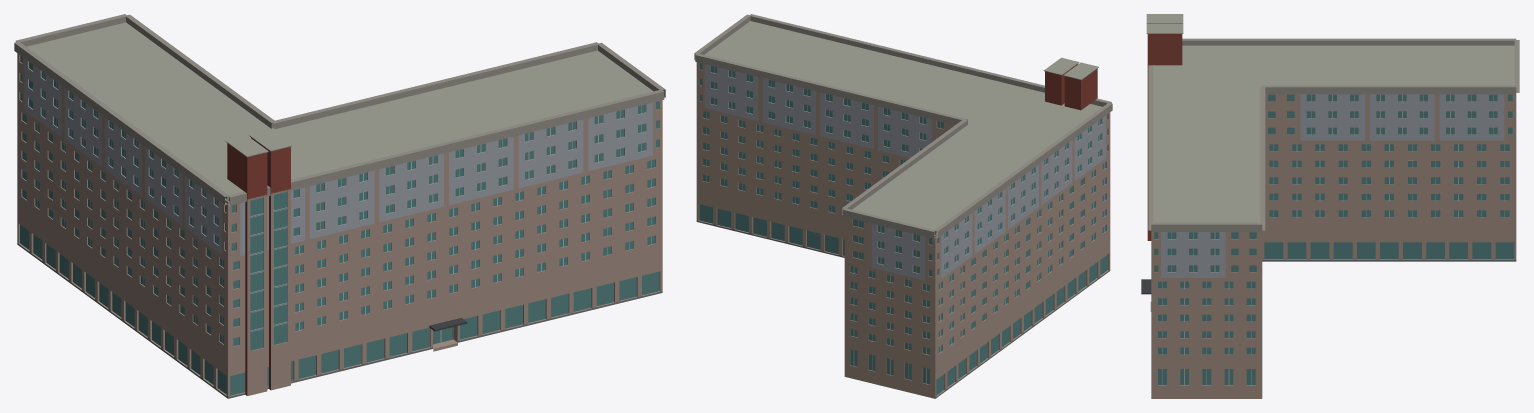
3 views of the same model, side by side, from view 1: azimuth 30°, elevation 25°; view 2: azimuth 150°, elevation 25°; view 3: azimuth 270°, elevation 25° (orthographic). The views are drawn at different scales.
Parts seen in each view (by area): view 1: dorm2__wall, dorm2__roof, dorm2__glass, dorm2__wall2, dorm2__trim, dorm2__brick, dorm2__frame, dorm2__base; view 2: dorm2__wall, dorm2__roof, dorm2__wall2, dorm2__glass, dorm2__trim, dorm2__frame, dorm2__brick, dorm2__base; view 3: dorm2__wall, dorm2__roof, dorm2__glass, dorm2__wall2, dorm2__trim, dorm2__brick, dorm2__frame, dorm2__base.
Part boxes in pixels (box(x1,y1,x2,y2)): dorm2__wall: box(17, 53, 662, 396); dorm2__roof: box(18, 22, 654, 397); dorm2__glass: box(20, 55, 659, 395); dorm2__wall2: box(24, 58, 652, 256); dorm2__trim: box(14, 14, 665, 205); dorm2__brick: box(227, 137, 290, 395); dorm2__frame: box(37, 73, 651, 342); dorm2__base: box(17, 243, 662, 398); dorm2__wall: box(696, 62, 1110, 398); dorm2__roof: box(704, 21, 1109, 396); dorm2__wall2: box(704, 64, 1105, 280); dorm2__glass: box(699, 63, 1107, 395); dorm2__trim: box(694, 14, 1112, 238); dorm2__frame: box(706, 67, 1104, 383); dorm2__brick: box(1045, 64, 1097, 110); dorm2__base: box(696, 220, 1110, 398); dorm2__wall: box(1151, 94, 1516, 398); dorm2__roof: box(1146, 14, 1514, 222); dorm2__glass: box(1154, 94, 1514, 385); dorm2__wall2: box(1161, 94, 1504, 277); dorm2__trim: box(1146, 23, 1519, 231); dorm2__brick: box(1147, 34, 1182, 240); dorm2__frame: box(1162, 94, 1504, 385); dorm2__base: box(1262, 260, 1516, 261).
Size of the model in its own units: 70.92 by 37.34 by 60.84.
